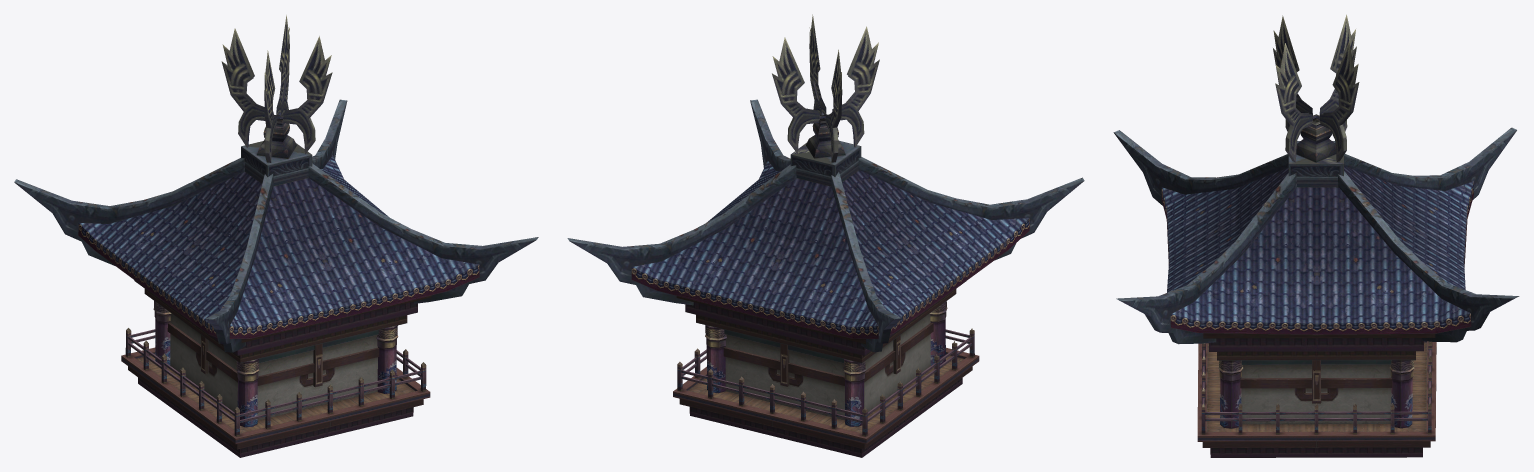
The model's file is Map02_Building_02.FBX.
The picture shows the model from 3 angles, left to right: view 1: azimuth 30°, elevation 25°; view 2: azimuth 150°, elevation 25°; view 3: azimuth 270°, elevation 25°; orthographic projection. The views are drawn at different scales.
Parts seen in each view (by area): view 1: Object001; view 2: Object001; view 3: Object001.
Part boxes in pixels (x1,y1,x2,y2): Object001: (14, 15, 538, 457); Object001: (567, 14, 1084, 457); Object001: (1113, 14, 1519, 457).
Size of the model in its own units: 1219 by 1269 by 1210.
1 material, 1 textured.
